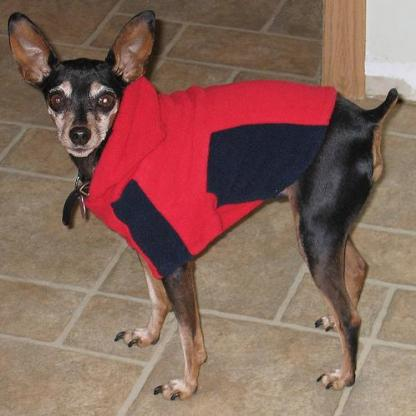miniature_pinscher: (0, 8, 399, 400)
